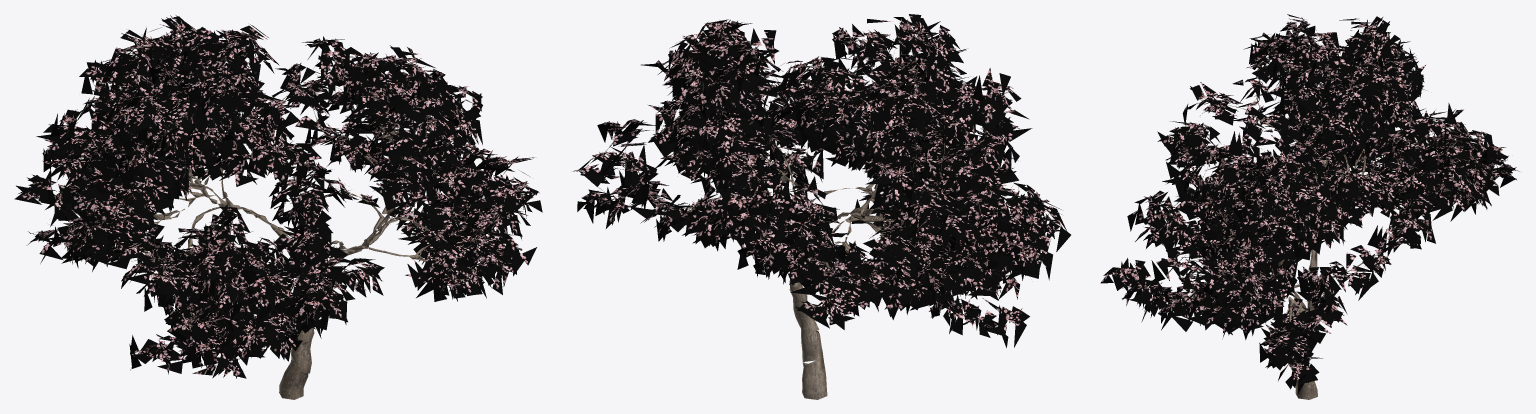
File: Cherry_C_lod1.obj
3 views of the same model, side by side, from view 1: azimuth 30°, elevation 25°; view 2: azimuth 150°, elevation 25°; view 3: azimuth 270°, elevation 25° (orthographic). The views are drawn at different scales.
Parts seen in each view (by area): view 1: model; view 2: model; view 3: model.
Boxes of the visible parts, x1,y1,x2,y2 form: model: (14, 15, 542, 399); model: (573, 14, 1070, 399); model: (1100, 14, 1519, 399).
Size of the model in its own units: 132 by 97.7 by 113.
Materials: 2 (2 with a texture image).
